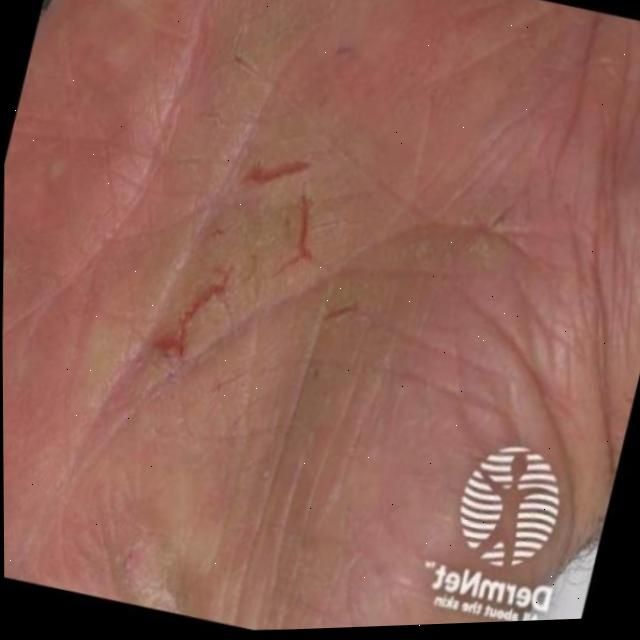Eczema: (144, 160, 340, 388)
